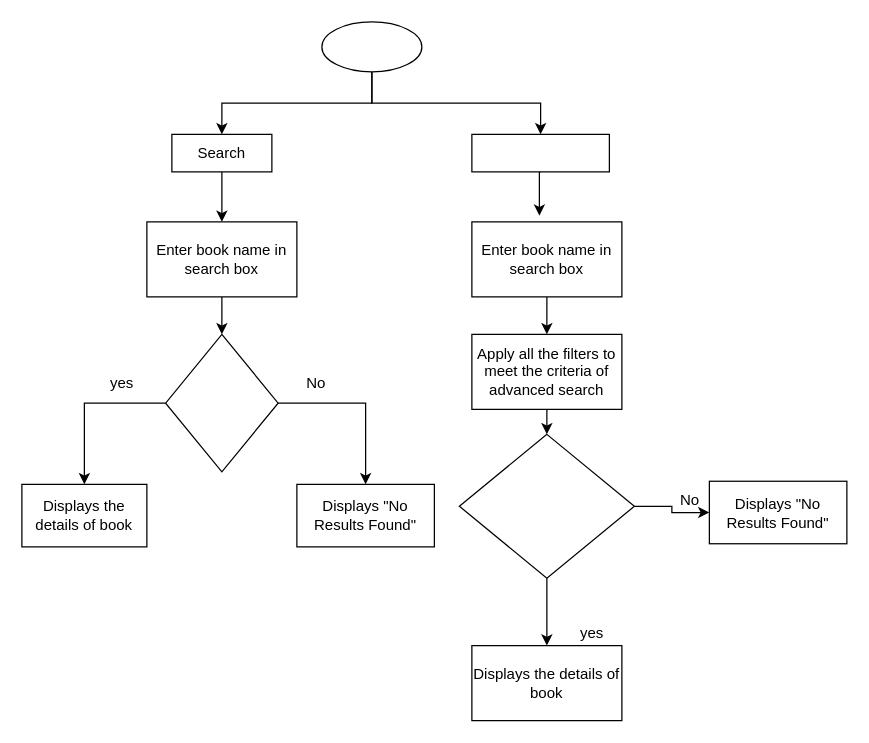
Image size: 869x743. Some labels were removed from this diagram. The box of each missing label's shape, as (x1, y1, x2, y2) in pixels:
Advanced Search: (471, 133, 609, 172)
Book data exsists in database: (164, 333, 278, 472)
Book wihich satisfies the criteria exsists in database: (458, 433, 634, 578)
Start: (321, 21, 422, 72)
